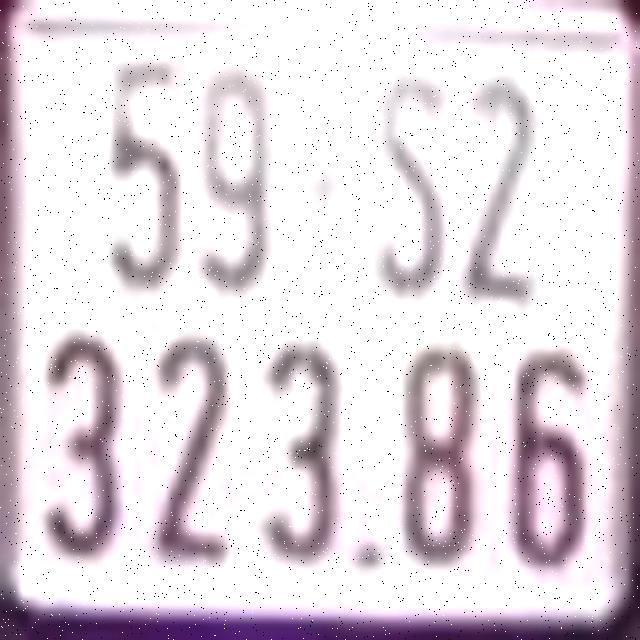2: (155, 332, 231, 562), (465, 73, 538, 305)
3: (43, 332, 122, 556), (263, 335, 339, 562)
5: (106, 53, 186, 290)
6: (514, 347, 588, 567)
8: (402, 343, 476, 564)
9: (198, 61, 272, 292)
S: (378, 69, 449, 294)
